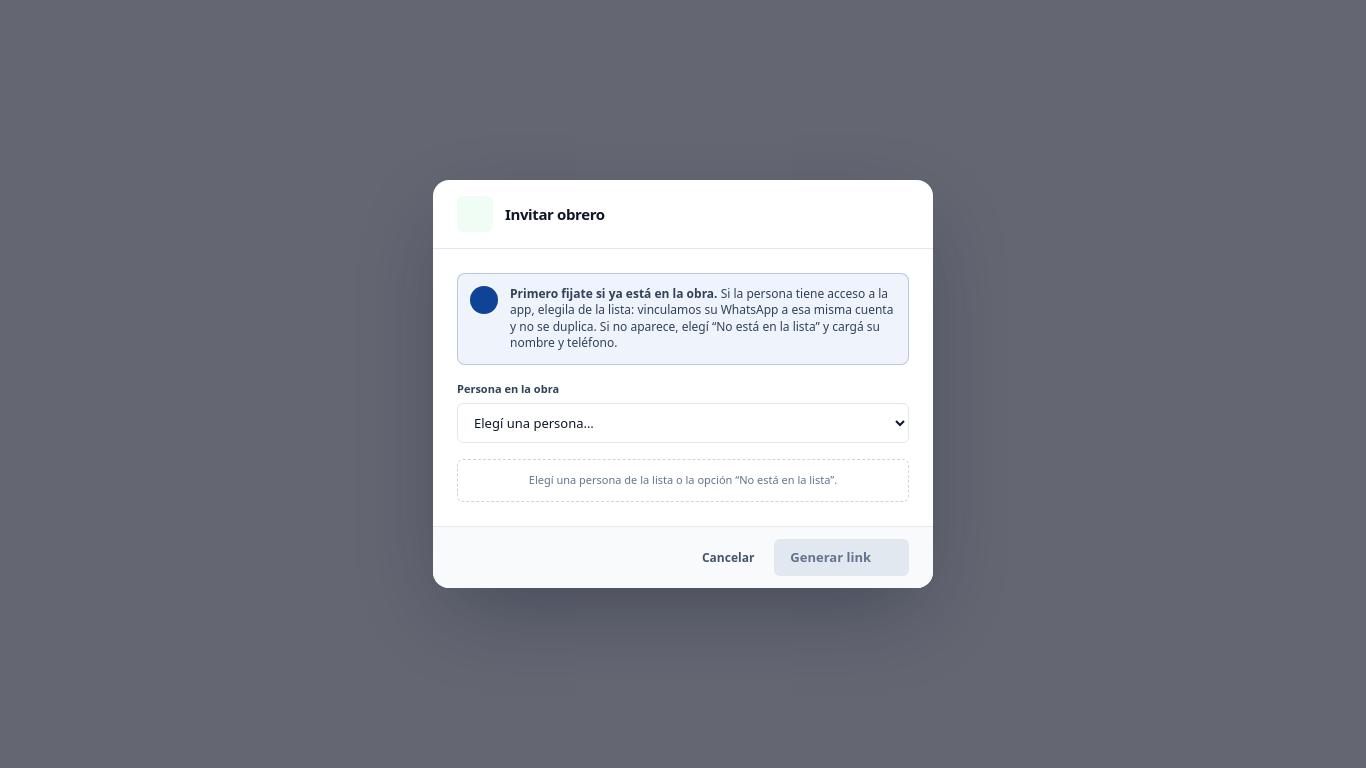
Test case: InviteTeamModal — selector de personas de la obra › genera el link con persona_id y el teléfono ingresado
The image size is (1366, 768).
Select "Ana Web — ana@ejemplo.com (Capataz)" in the dropdown at {"x": 683, "y": 423}, box [457, 403, 909, 443]
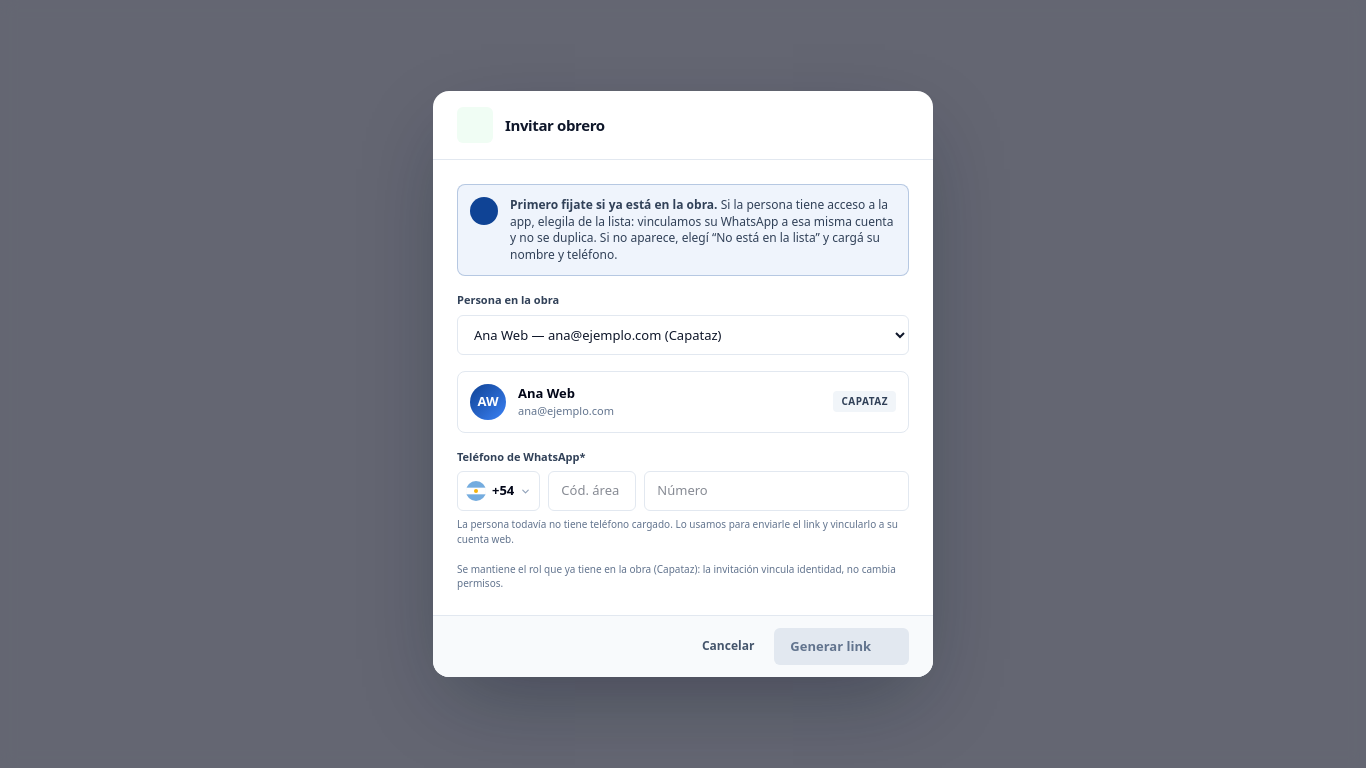
Type "11" into the field named "Código de área".
click(592, 491); type("11")  # box [548, 471, 636, 511]
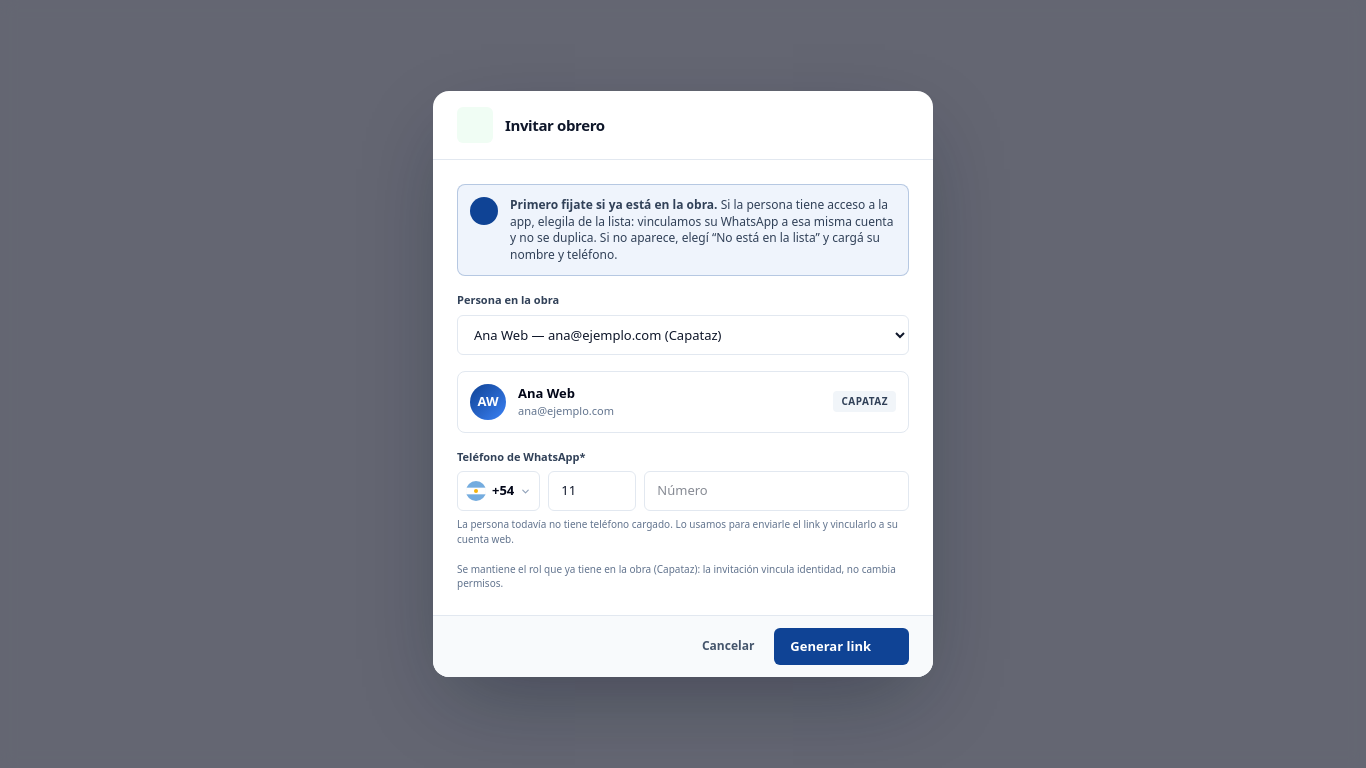
Type "43614361" into the field named "Número de teléfono".
click(777, 491); type("43614361")  # box [644, 471, 909, 511]
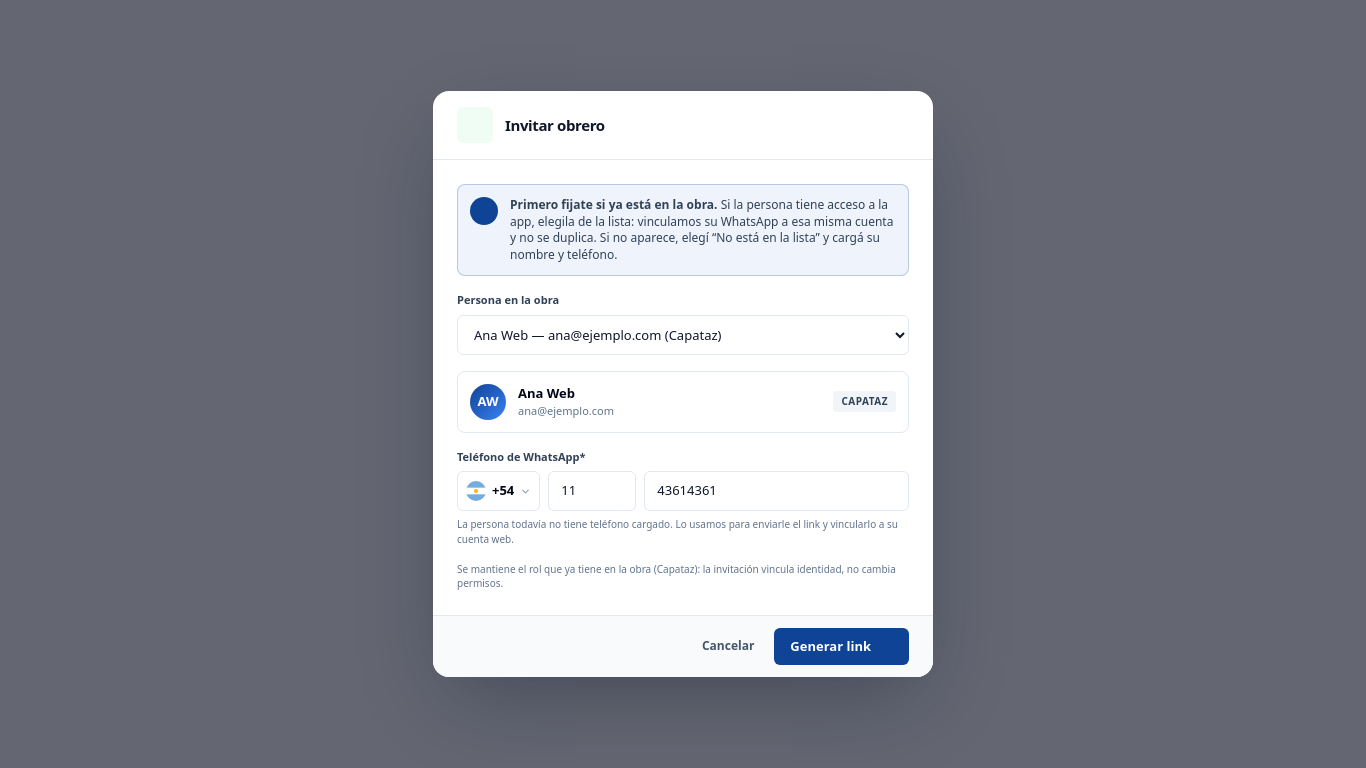
Click the button "Generar link".
click(842, 646)  # box [774, 628, 909, 665]
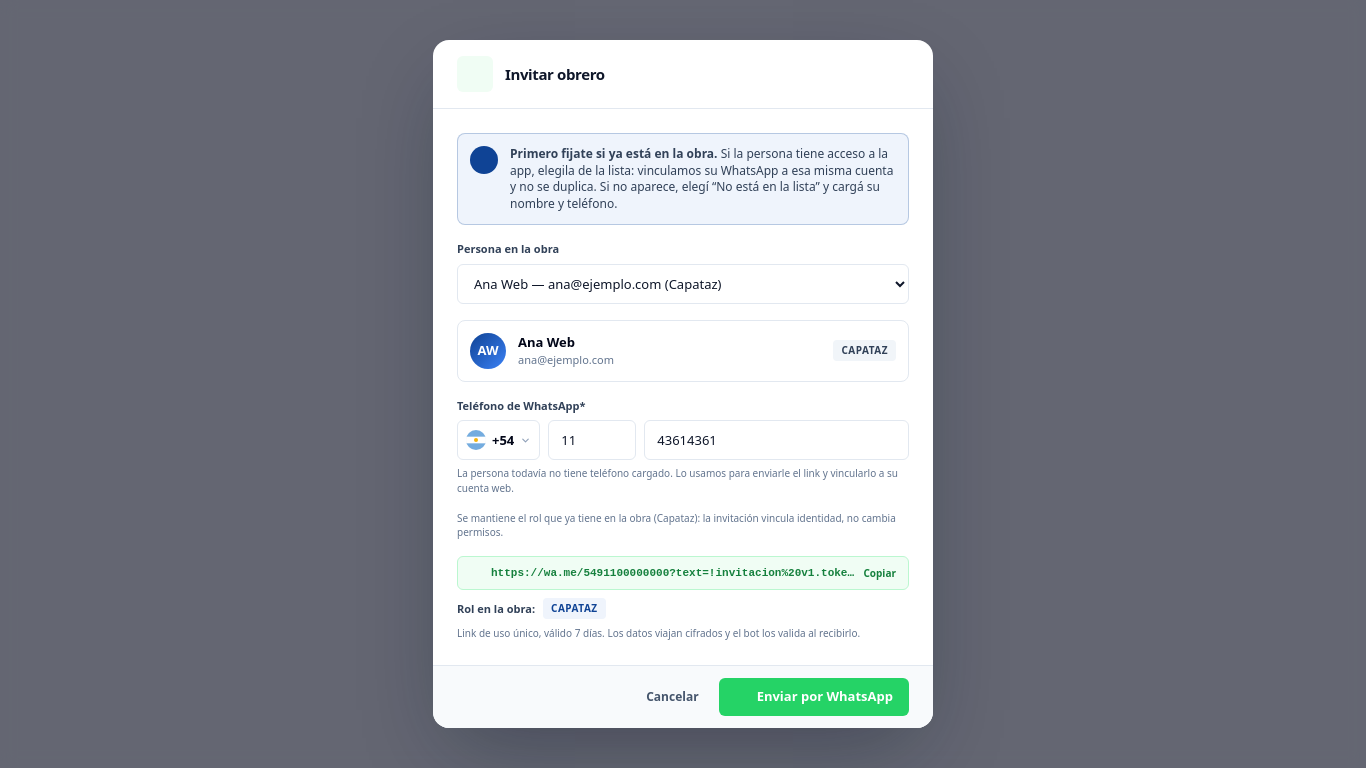
Check: the button "Enviar por WhatsApp" is shown, box [719, 678, 909, 716]
